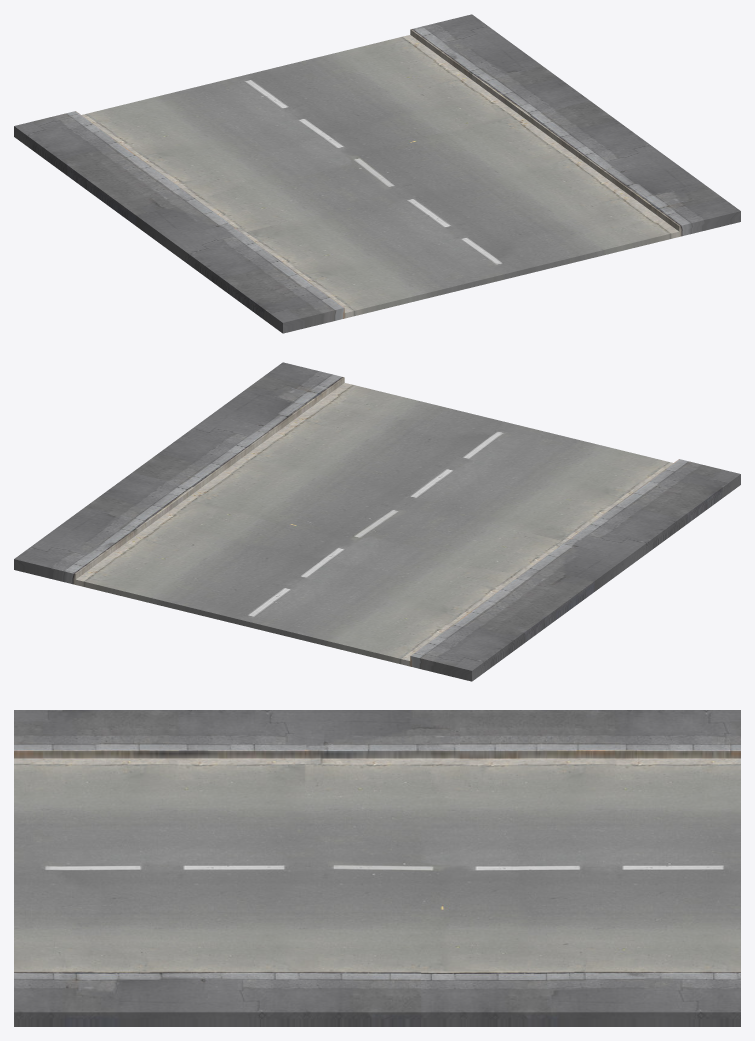
Rendered from straight road.fbx.
3 views of the same model, one above another, from view 1: azimuth 30°, elevation 25°; view 2: azimuth 150°, elevation 25°; view 3: azimuth 270°, elevation 25° (orthographic). The views are drawn at different scales.
Parts seen in each view (by area): view 1: pCube1; view 2: pCube1; view 3: pCube1.
Part boxes in pixels (bbox=[...]): pCube1: bbox=[14, 14, 740, 333]; pCube1: bbox=[14, 362, 740, 681]; pCube1: bbox=[14, 710, 740, 1026].
Bounding box in the file's own units: 8.9 × 0.2 × 9.05.
